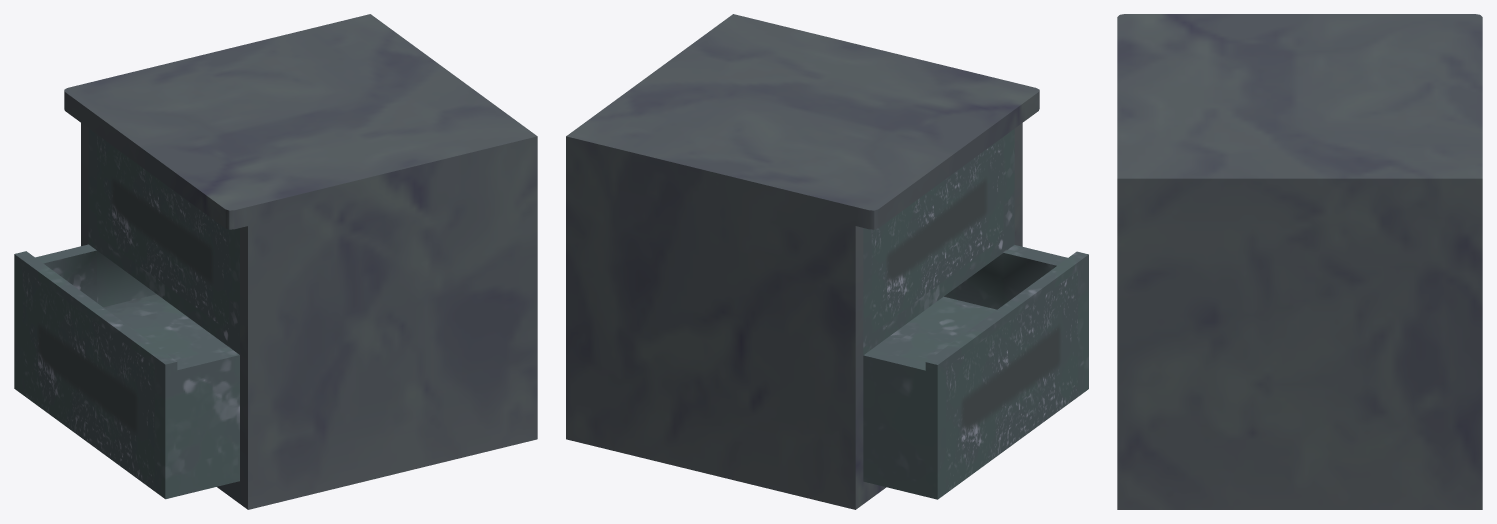
The model's file is Short_Cabinet.fbx.
3 views of the same model, side by side, from view 1: azimuth 30°, elevation 25°; view 2: azimuth 150°, elevation 25°; view 3: azimuth 270°, elevation 25° (orthographic). The views are drawn at different scales.
Parts seen in each view (by area): view 1: ShortCabinet; view 2: ShortCabinet; view 3: ShortCabinet.
Boxes of the visible parts, box(x1,y1,x2,y2) form: ShortCabinet: box(14, 14, 537, 509); ShortCabinet: box(566, 14, 1088, 509); ShortCabinet: box(1117, 14, 1482, 509).
Bounding box in the file's own units: 97.78 × 77.79 × 77.79.
